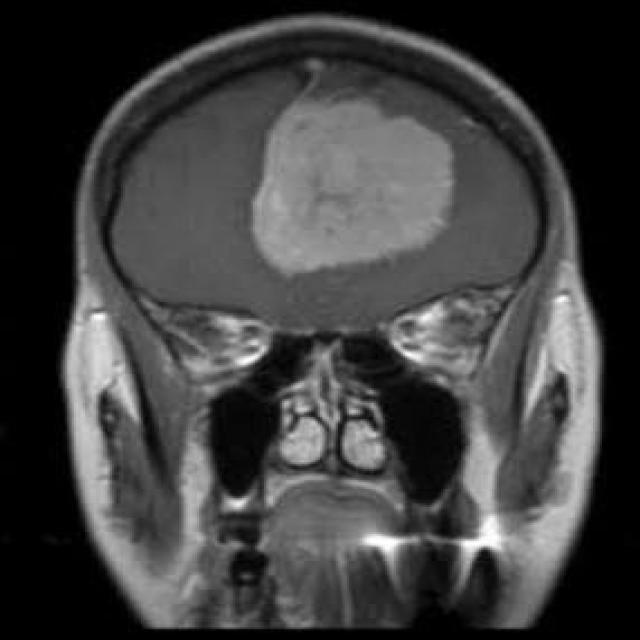Tumor: (251, 90, 454, 291)
